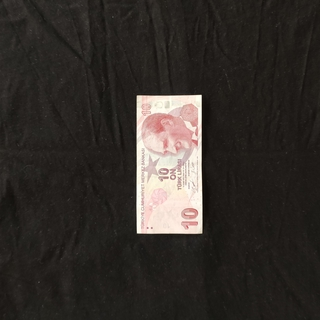10TLFront: (135, 94, 204, 235)
